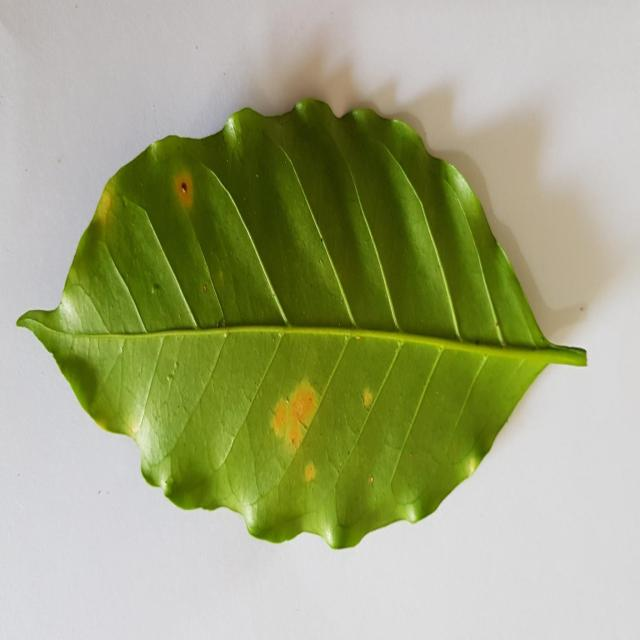Enfermedad-Roya: (15, 99, 589, 552)
